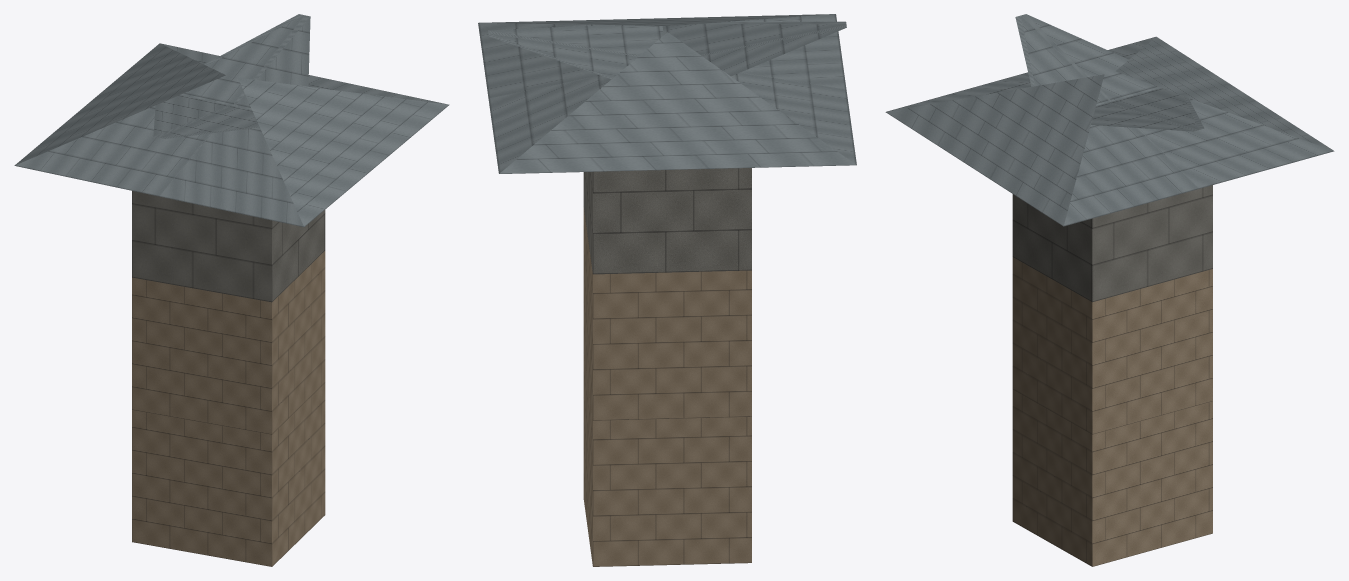
File: bld_c16_25_398.gltf
The picture shows the model from 3 angles, left to right: view 1: azimuth 30°, elevation 25°; view 2: azimuth 150°, elevation 25°; view 3: azimuth 270°, elevation 25°; orthographic projection. The views are drawn at different scales.
Visible parts, largest first — view 1: bld_c16_25_398; view 2: bld_c16_25_398; view 3: bld_c16_25_398.
Part boxes in pixels (box(x1,y1,x2,y2)): bld_c16_25_398: box(14, 14, 449, 566); bld_c16_25_398: box(478, 14, 856, 566); bld_c16_25_398: box(885, 14, 1334, 566).
Bounding box in the file's own units: 6.93 × 7.7 × 6.93.
Materials: 3 (3 with a texture image).
